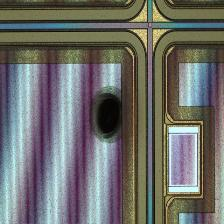PARTICLE: (81, 85, 141, 145)
